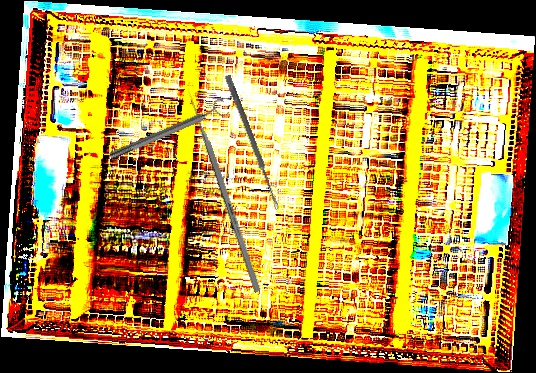Fixation Ring: (106, 97, 230, 165)
Pusher: (184, 86, 262, 293)
Surgical Spoon: (223, 74, 282, 211)
